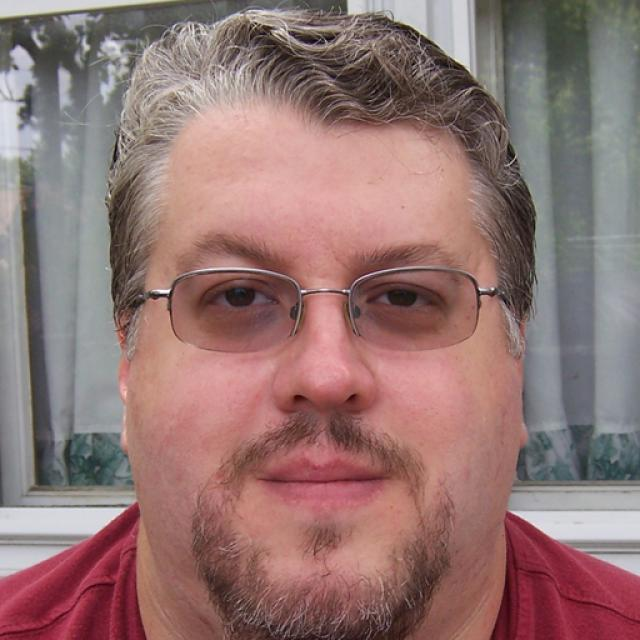content: (126, 115, 514, 630)
